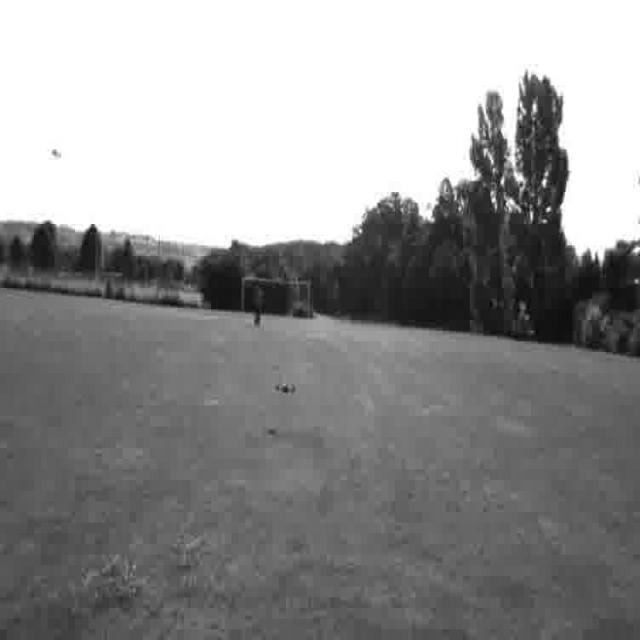drones: (272, 367, 297, 407)
